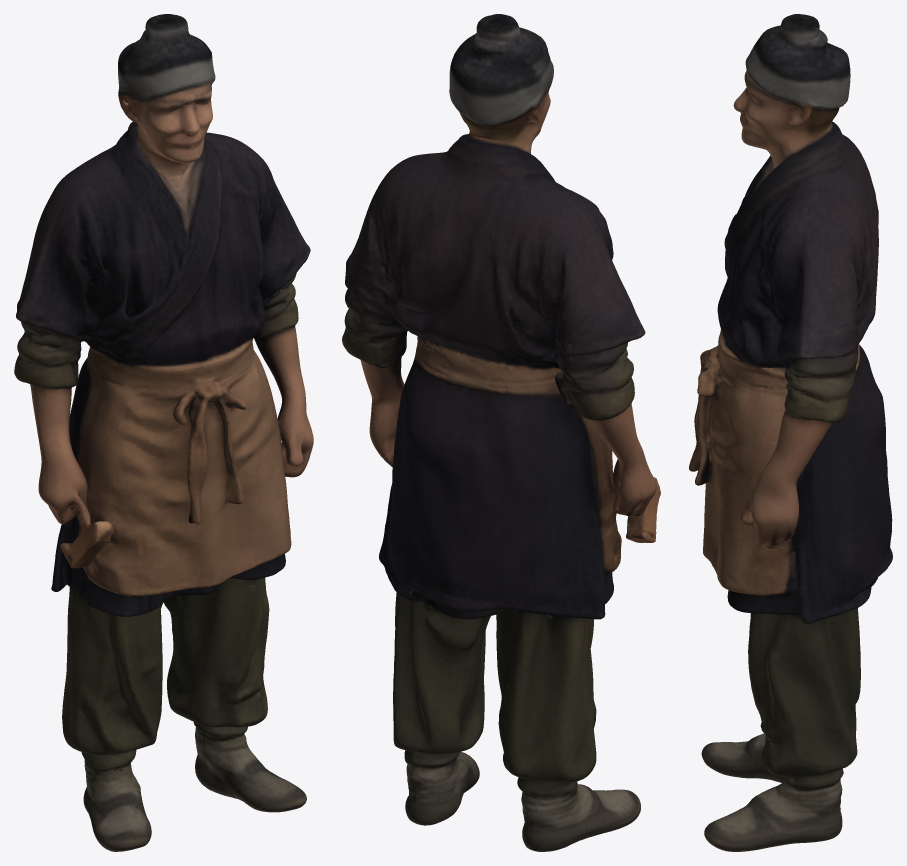
File: artisan-craftsman.glb
3 views of the same model, side by side, from view 1: azimuth 30°, elevation 25°; view 2: azimuth 150°, elevation 25°; view 3: azimuth 270°, elevation 25° (orthographic). The views are drawn at different scales.
Parts seen in each view (by area): view 1: world; view 2: world; view 3: world.
Part boxes in pixels (box(x1,y1,x2,y2)): world: box(14, 14, 313, 851); world: box(342, 14, 660, 851); world: box(689, 14, 892, 851).
Bounding box in the file's own units: 0.6782 × 1.75 × 0.4118.
Materials: 1 (1 with a texture image).
